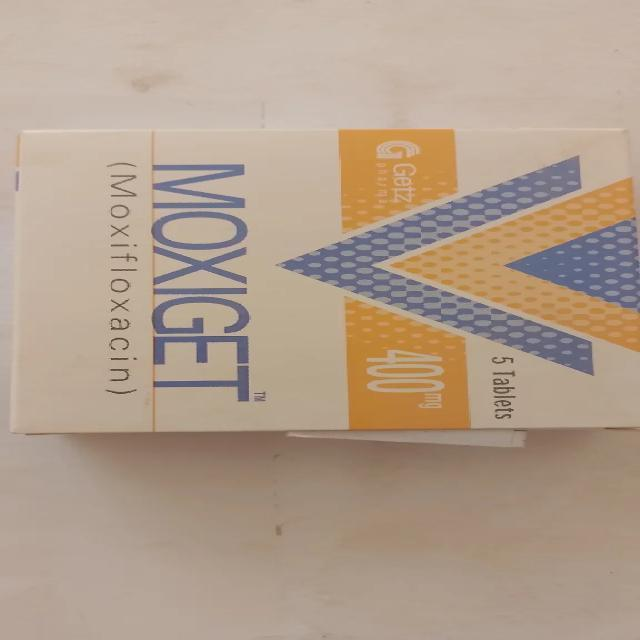drug-name: (148, 156, 268, 407)
